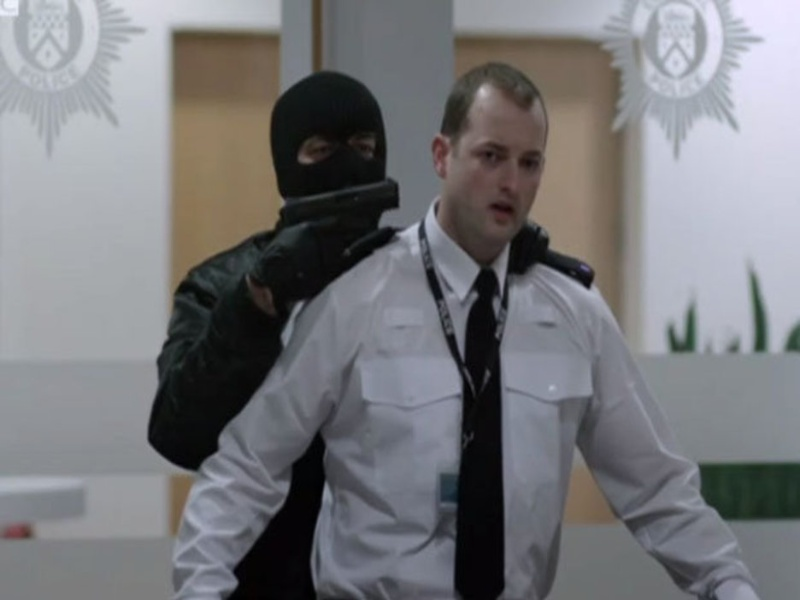balaclava: (270, 71, 386, 190)
gun: (277, 180, 400, 237)
person: (391, 63, 765, 600), (147, 70, 402, 482)
